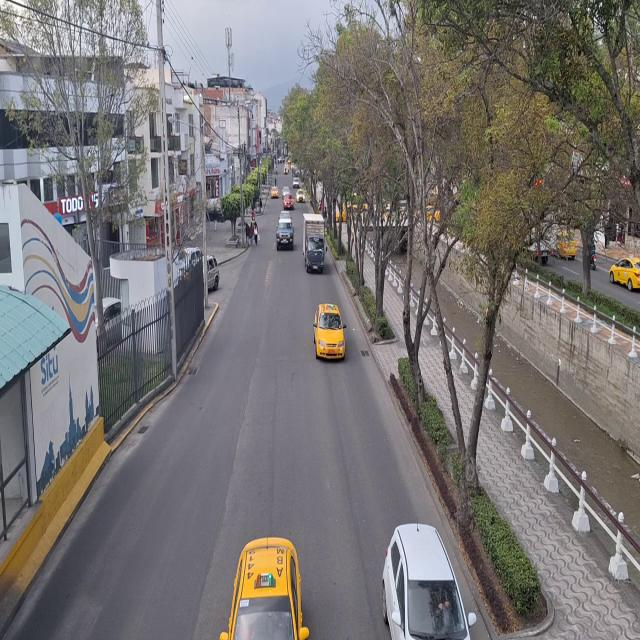SUV: (277, 218, 292, 250)
TRUCK: (302, 211, 326, 272)
